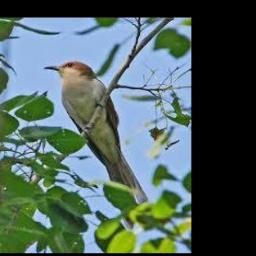Cuckoo: (43, 61, 150, 227)
